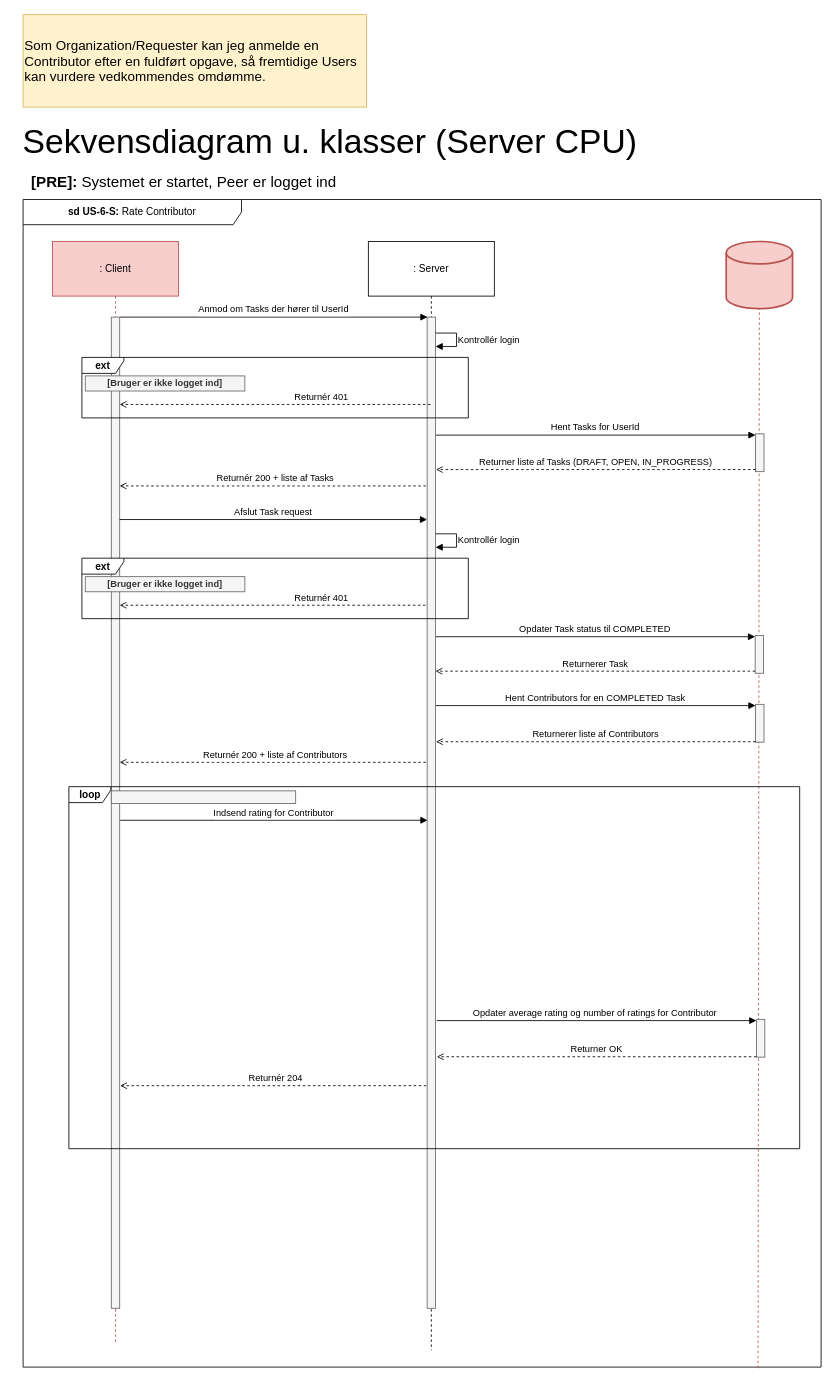
The diagram is 836 pixels wide and 1384 high, and some of its shapes have lost their labels. Here are the shapes that lost their labels. From the top down, the box of each, then its label:
(725, 240, 793, 309): : Database
(110, 790, 296, 803): [FOR contributor IN list_of_participants]
